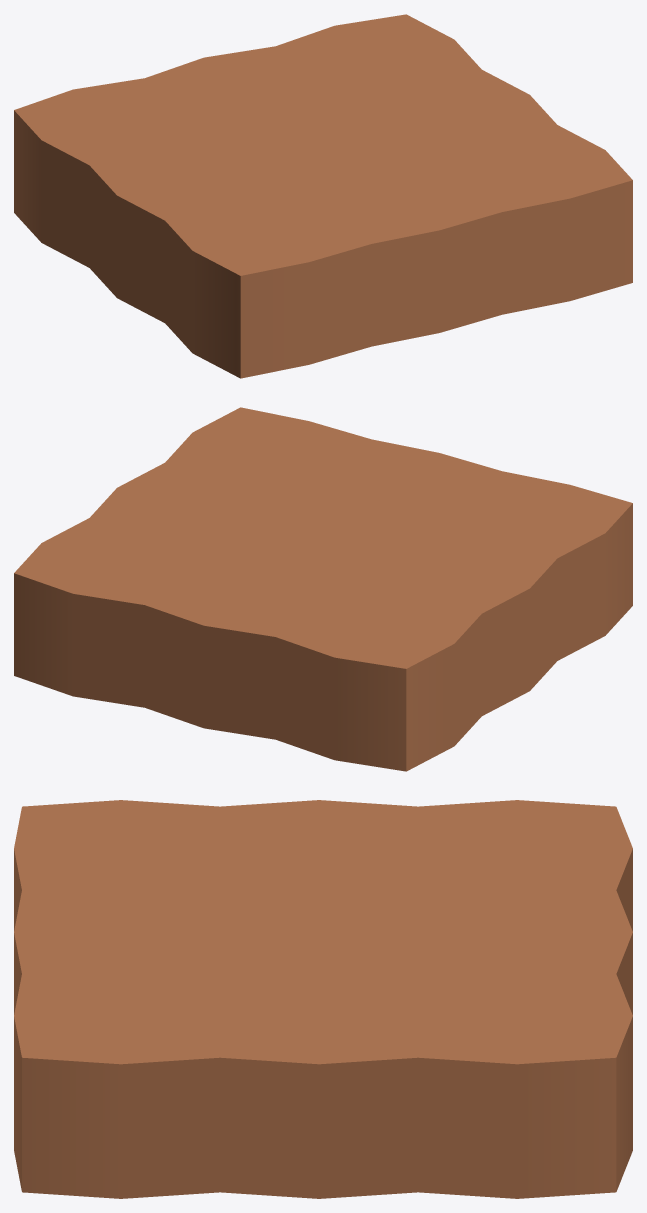
File: jaggeredTile-18b_col.fbx
The picture shows the model from 3 angles, top to bottom: view 1: azimuth 30°, elevation 25°; view 2: azimuth 150°, elevation 25°; view 3: azimuth 270°, elevation 25°; orthographic projection. The views are drawn at different scales.
Parts seen in each view (by area): view 1: jaggeredTile-18b.col; view 2: jaggeredTile-18b.col; view 3: jaggeredTile-18b.col.
Boxes of the visible parts, left/top/right/bottom form: jaggeredTile-18b.col: left=14, top=14, right=632, bottom=378; jaggeredTile-18b.col: left=14, top=407, right=632, bottom=771; jaggeredTile-18b.col: left=14, top=800, right=632, bottom=1198.
Size of the model in its own units: 2.1 by 0.5 by 2.08.
Materials: 1 (1 with a texture image).
